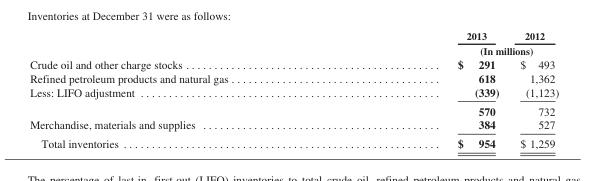table: (29, 29, 558, 149)
table column: (29, 29, 342, 149), (342, 29, 508, 149), (508, 29, 558, 149)
table column header: (29, 29, 558, 56)
table row: (29, 84, 558, 101), (29, 101, 558, 117), (29, 117, 558, 133), (29, 133, 558, 149), (29, 42, 558, 56), (29, 56, 558, 70), (29, 70, 558, 84), (29, 29, 558, 42)
table spanning cell: (342, 42, 558, 56)
